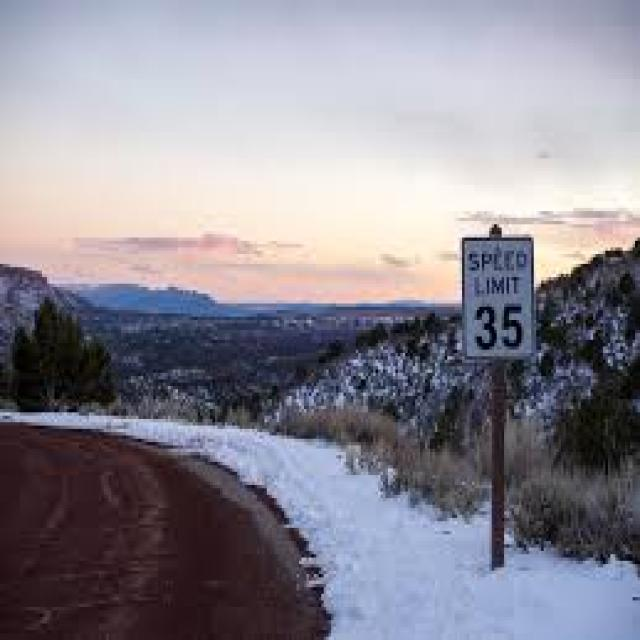speedLimit35: (457, 234, 539, 363)
